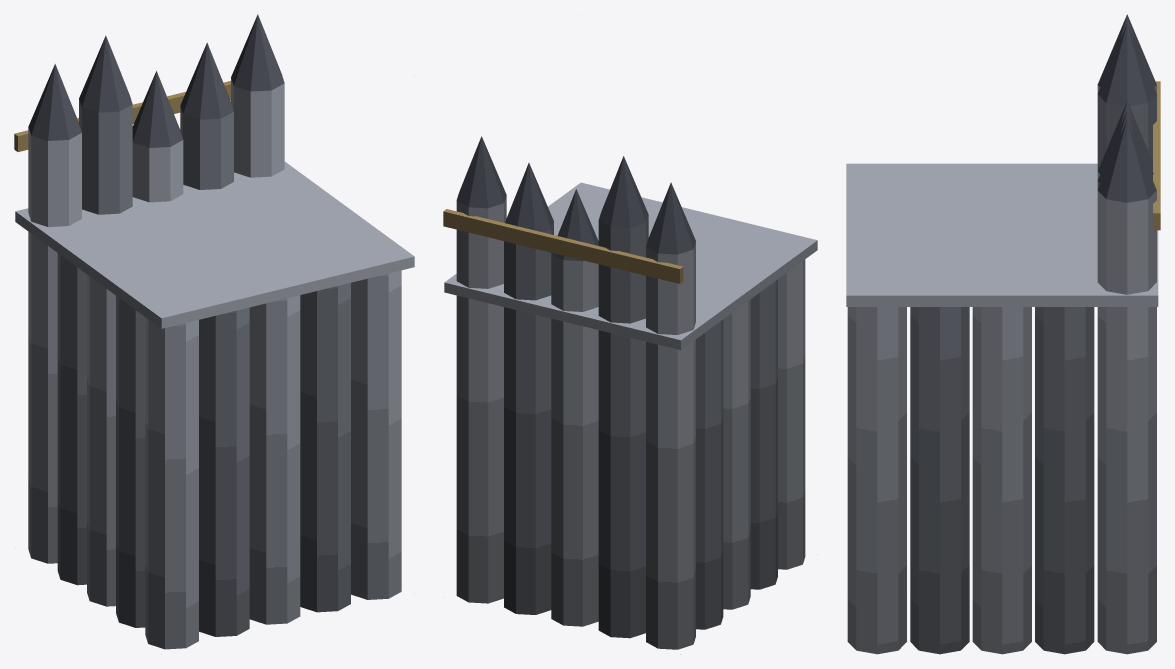
The model's file is perimeter_wall_metal_f14.glb.
The picture shows the model from 3 angles, left to right: view 1: azimuth 30°, elevation 25°; view 2: azimuth 150°, elevation 25°; view 3: azimuth 270°, elevation 25°; orthographic projection. The views are drawn at different scales.
Bounding box in the file's own units: 2 × 3.9 × 2.01.
1 material, 1 textured.
